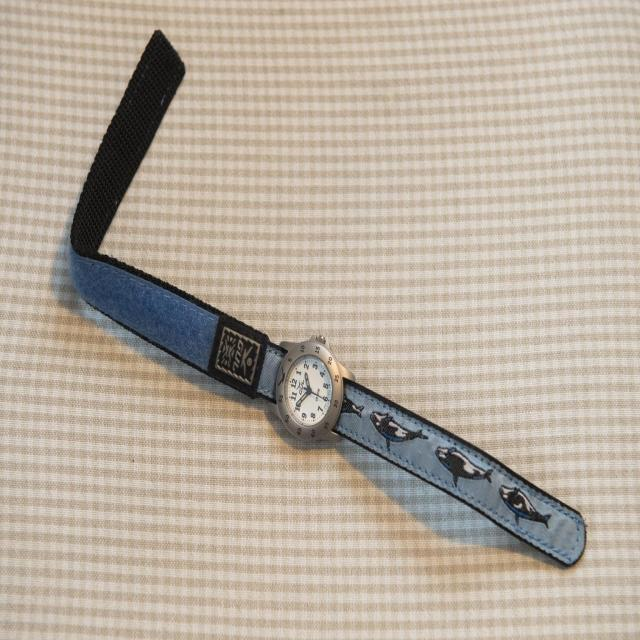Wrist watch: (68, 30, 584, 569)
